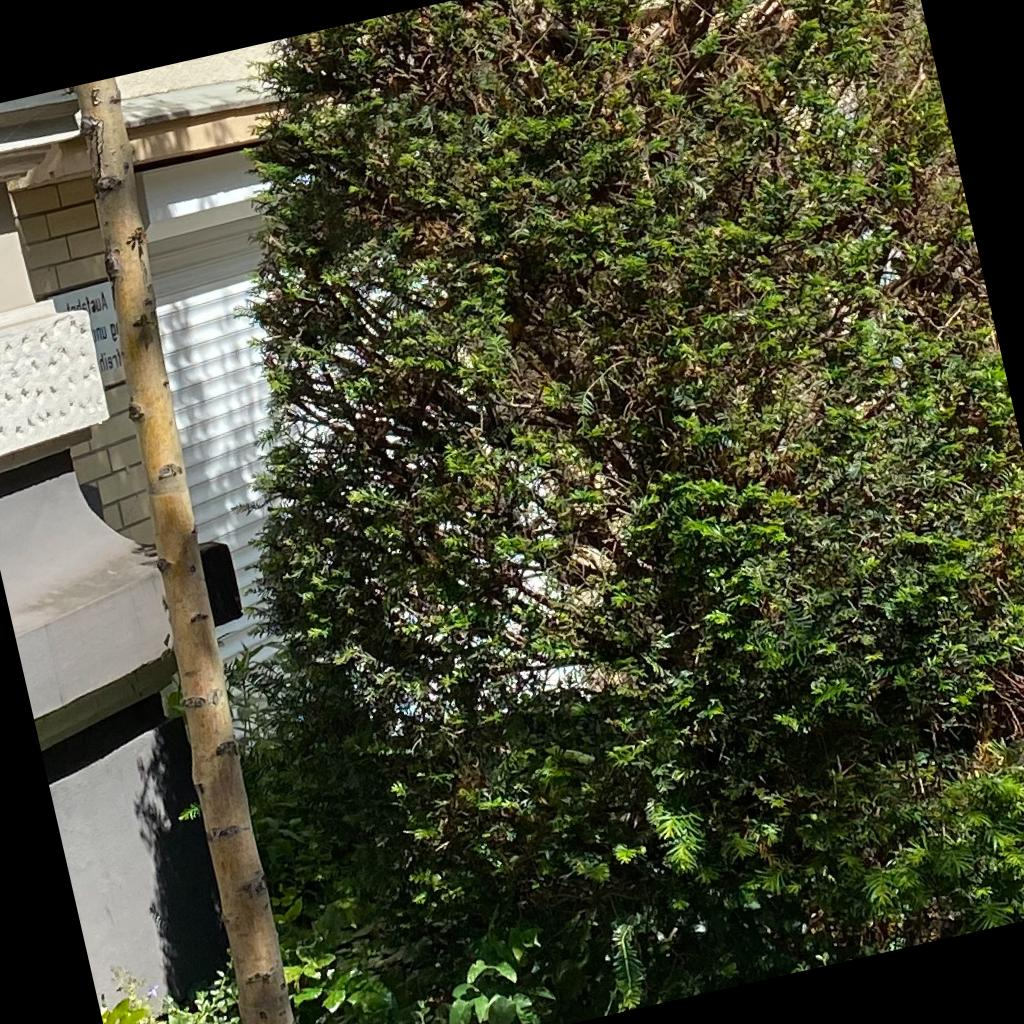tree: (235, 1, 1024, 1016), (70, 76, 296, 1023)
